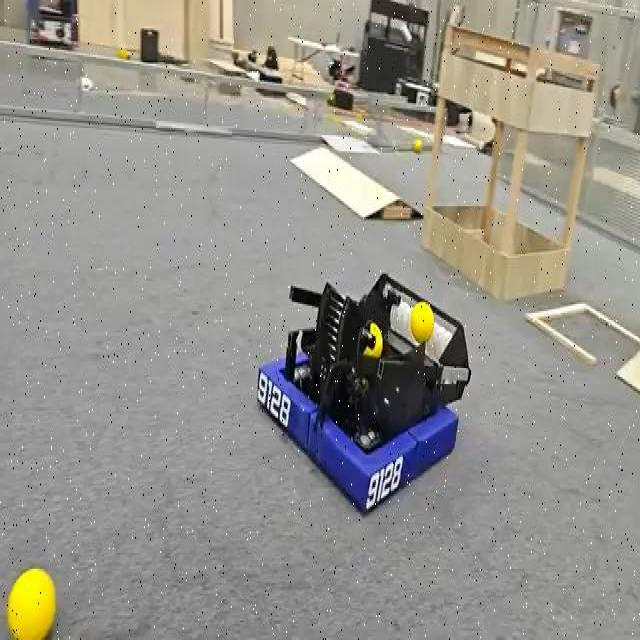Fuel: (6, 568, 54, 640), (7, 567, 55, 638), (410, 301, 434, 344), (410, 300, 434, 342), (363, 322, 382, 359), (363, 322, 382, 356), (412, 138, 422, 153), (118, 46, 128, 58), (413, 139, 422, 151), (328, 92, 335, 105), (356, 112, 366, 121), (124, 50, 131, 59)
